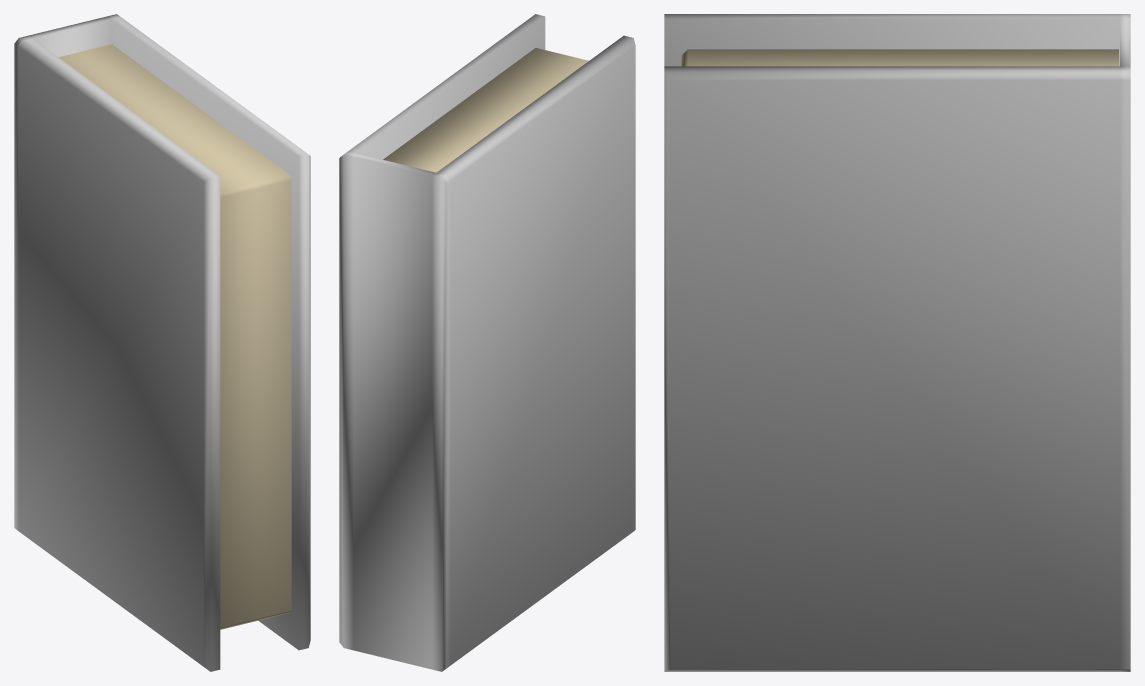
The model's file is BookClosed.fbx.
3 views of the same model, side by side, from view 1: azimuth 30°, elevation 25°; view 2: azimuth 150°, elevation 25°; view 3: azimuth 270°, elevation 25° (orthographic). The views are drawn at different scales.
Visible parts, largest first — view 1: BookClosed; view 2: BookClosed; view 3: BookClosed.
Boxes of the visible parts, left/top/right/bottom form: BookClosed: left=14, top=14, right=310, bottom=671; BookClosed: left=339, top=14, right=635, bottom=671; BookClosed: left=664, top=14, right=1130, bottom=671.
Size of the model in its own units: 13.17 by 58.1 by 40.92.
